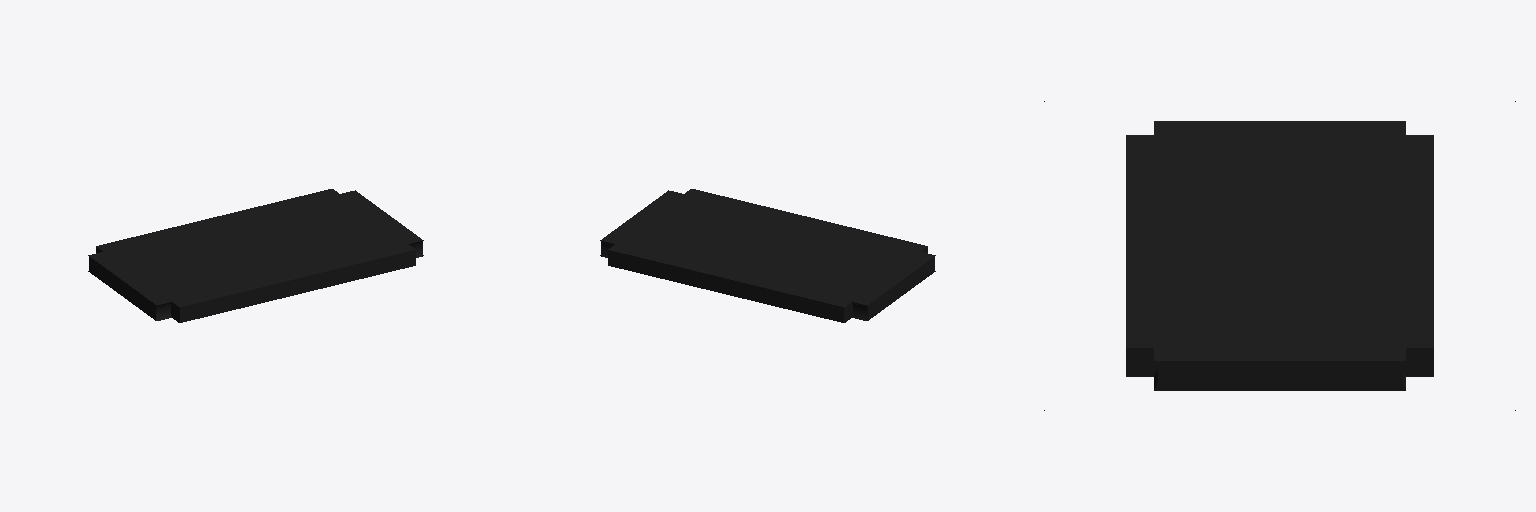
--- What the picture shows (computed from the rendered views, not written in the file) ---
3 views of the same robot in one strip: view 1: azimuth 30°, elevation 25°; view 2: azimuth 150°, elevation 25°; view 3: azimuth 270°, elevation 25° (orthographic).
Model victor with 29 links and 28 joints (12 revolute, 16 fixed), rooted at base_link, posed all joints at 0.
Visible links, largest first — view 1: base_link; view 2: base_link; view 3: base_link.
Link boxes in pixels (x1=…): base_link: x1=88, y1=189, x2=423, y2=322; base_link: x1=600, y1=189, x2=935, y2=322; base_link: x1=1126, y1=121, x2=1433, y2=390.
Bounding box of the posed robot: 0.225 × 0.145 × 0.01 m (x, y, z).
9 mesh visuals loaded from 6 distinct referenced files (3 Collada DAE); not drawn: 6 (reference not matched to a file when rendering).

The robot description file, URDF, robot "victor":
<?xml version="1.0" encoding="utf-8"?>
<!-- =================================================================================== -->
<!-- |    This document was autogenerated by xacro from victor.urdf.xacro              | -->
<!-- |    EDITING THIS FILE BY HAND IS NOT RECOMMENDED                                 | -->
<!-- =================================================================================== -->
<robot name="victor">
  <!-- not how it is done in champ -->
  <material name="black">
    <color rgba="0.15 0.15 0.15 1.0"/>
  </material>
  <link name="base_link">
    <collision>
      <origin rpy="0 0 0" xyz="0 0 0"/>
      <geometry>
        <mesh filename="package://victor_description/meshes/base.dae" scale="1 1 1"/>
      </geometry>
    </collision>
    <visual>
      <origin rpy="0 0 0" xyz="0 0 0"/>
      <geometry>
        <mesh filename="package://victor_description/meshes/base.dae" scale="1 1 1"/>
      </geometry>
      <material name="black"/>
    </visual>
  </link>
  <link name="base_inertia">
    <inertial>
      <origin xyz="0 0 0"/>
      <mass value="2.0"/>
      <inertia ixx="0.00152083333333" ixy="0.0" ixz="0.0" iyy="0.00512083333333" iyz="0.0" izz="0.00660833333333"/>
    </inertial>
  </link>
  <joint name="base_link_to_base_inertia" type="fixed">
    <parent link="base_link"/>
    <child link="base_inertia"/>
    <origin rpy="0 0 0" xyz="0 0 0"/>
  </joint>
  <gazebo reference="base_link">
    <material>Gazebo/FlatBlack</material>
  </gazebo>
  <joint name="hokuyo_joint" type="fixed">
    <origin rpy="0 0 0" xyz="0.0 0.0 0.045"/>
    <parent link="base_link"/>
    <child link="hokuyo_frame"/>
  </joint>
  <link name="hokuyo_frame">
    <inertial>
      <mass value="0.270"/>
      <origin rpy="0 0 0" xyz="0 0 0"/>
      <inertia ixx="2.632e-4" ixy="0" ixz="0" iyy="2.632e-4" iyz="0" izz="1.62e-4"/>
    </inertial>
    <visual>
      <origin rpy="0 0 0" xyz="0 0 0"/>
      <geometry>
        <mesh filename="package://hector_sensors_description/meshes/hokuyo_utm30lx/hokuyo_utm_30lx.dae"/>
      </geometry>
    </visual>
    <collision>
      <origin rpy="0 0 0" xyz="0 0 -0.0115"/>
      <geometry>
        <box size="0.058 0.058 0.087"/>
        <!--<mesh filename="package://hector_sensors_description/meshes/hokuyo_utm30lx/hokuyo_utm_30lx.stl"/>-->
      </geometry>
    </collision>
  </link>
  <gazebo reference="hokuyo_frame">
    <sensor name="hokuyo" type="ray">
      <always_on>true</always_on>
      <update_rate>30</update_rate>
      <pose>0 0 0 0 0 0</pose>
      <visualize>false</visualize>
      <ray>
        <scan>
          <horizontal>
            <samples>1040</samples>
            <resolution>1</resolution>
            <min_angle>2.26892802759</min_angle>
            <max_angle>-2.26892802759</max_angle>
          </horizontal>
        </scan>
        <range>
          <min>0.2</min>
          <max>30.0</max>
          <resolution>0.01</resolution>
        </range>
        <noise>
          <type>gaussian</type>
          <mean>0.0</mean>
          <stddev>0.004</stddev>
        </noise>
      </ray>
      <plugin filename="libgazebo_ros_laser.so" name="gazebo_ros_hokuyo_controller">
        <topicName>scan</topicName>
        <frameName>hokuyo_frame</frameName>
      </plugin>
    </sensor>
  </gazebo>
  <joint name="camera_joint" type="fixed">
    <origin rpy="0 0 0" xyz="0.0875 0.0 -0.015"/>
    <parent link="base_link"/>
    <child link="camera_link"/>
  </joint>
  <link name="camera_link">
    <inertial>
      <mass value="0.200"/>
      <origin rpy="0 0 0" xyz="0 0 0"/>
      <inertia ixx="5.8083e-4" ixy="0" ixz="0" iyy="3.0833e-5" iyz="0" izz="5.9083e-4"/>
    </inertial>
    <visual>
      <origin rpy="0 0 0" xyz="0 0 0"/>
      <geometry>
        <mesh filename="package://hector_sensors_description/meshes/asus_camera/asus_camera_simple.dae"/>
      </geometry>
    </visual>
    <!--        
       <collision>
          <origin xyz="0 0 0" rpy="0 0 0" />
          <geometry>
            <box size="0.035 0.185 0.025"/>
          </geometry>
        </collision>
        -->
    <collision>
      <origin rpy="0 0 0" xyz="0 0 0"/>
      <geometry>
        <mesh filename="package://hector_sensors_description/meshes/asus_camera/asus_camera_simple.dae"/>
      </geometry>
    </collision>
  </link>
  <joint name="camera_depth_joint" type="fixed">
    <origin rpy="0 0 0" xyz="0.0 0.049 0.0"/>
    <parent link="camera_link"/>
    <child link="camera_depth_frame"/>
  </joint>
  <link name="camera_depth_frame"/>
  <joint name="camera_depth_optical_joint" type="fixed">
    <origin rpy="-1.57079632679 0.0 -1.57079632679" xyz="0 0 0"/>
    <parent link="camera_depth_frame"/>
    <child link="camera_depth_optical_frame"/>
  </joint>
  <link name="camera_depth_optical_frame"/>
  <joint name="camera_rgb_joint" type="fixed">
    <origin rpy="0 0 0" xyz="0.0 0.022 0.0"/>
    <parent link="camera_link"/>
    <child link="camera_rgb_frame"/>
  </joint>
  <link name="camera_rgb_frame"/>
  <joint name="camera_rgb_optical_joint" type="fixed">
    <origin rpy="-1.57079632679 0.0 -1.57079632679" xyz="0 0 0"/>
    <parent link="camera_rgb_frame"/>
    <child link="camera_rgb_optical_frame"/>
  </joint>
  <link name="camera_rgb_optical_frame"/>
  <!-- ASUS Xtion PRO camera for simulation -->
  <gazebo reference="camera_depth_frame">
    <sensor name="camera" type="depth">
      <update_rate>20</update_rate>
      <camera>
        <horizontal_fov>1.09606677025</horizontal_fov>
        <image>
          <format>R8G8B8</format>
          <width>640</width>
          <height>480</height>
        </image>
        <clip>
          <near>0.5</near>
          <far>9</far>
        </clip>
      </camera>
      <plugin filename="libgazebo_ros_openni_kinect.so" name="camera_camera_controller">
        <imageTopicName>camera/rgb/image_raw</imageTopicName>
        <cameraInfoTopicName>camera/rgb/camera_info</cameraInfoTopicName>
        <depthImageTopicName>camera/depth/image_raw</depthImageTopicName>
        <depthImageCameraInfoTopicName>camera/depth/camera_info</depthImageCameraInfoTopicName>
        <pointCloudTopicName>camera/depth/points</pointCloudTopicName>
        <frameName>camera_depth_optical_frame</frameName>
      </plugin>
    </sensor>
  </gazebo>
  <gazebo>
    <plugin filename="libhector_gazebo_ros_imu.so" name="imu_controller">
      <updateRate>50.0</updateRate>
      <bodyName>imu_link</bodyName>
      <topicName>imu/data</topicName>
      <accelDrift>0.005 0.005 0.005</accelDrift>
      <accelGaussianNoise>0.005 0.005 0.005</accelGaussianNoise>
      <rateDrift>0.005 0.005 0.005 </rateDrift>
      <rateGaussianNoise>0.005 0.005 0.005 </rateGaussianNoise>
      <headingDrift>0.005</headingDrift>
      <headingGaussianNoise>0.005</headingGaussianNoise>
    </plugin>
  </gazebo>
  <link name="imu_link">
    <inertial>
      <mass value="0.001"/>
      <origin rpy="0 0 0" xyz="0 0 0"/>
      <inertia ixx="1e-09" ixy="0.0" ixz="0.0" iyy="1e-09" iyz="0.0" izz="1e-09"/>
    </inertial>
  </link>
  <joint name="imu_joint" type="fixed">
    <parent link="base_link"/>
    <child link="imu_link"/>
  </joint>
  <!-- <xacro:include filename="$(find velodyne_description)/urdf/VLP-16.urdf.xacro"/>
        <xacro:VLP-16 parent="${base_name}" name="velodyne" topic="velodyne_points" hz="10" samples="1024" gpu="false" lasers="16" max_range="100">
	<origin xyz="0 0 ${base_height / 2}" rpy="0 0 0" />
        </xacro:VLP-16>

        <xacro:include filename="$(find champ_arm_description)/urdf/champ_arm.urdf.xacro" />
        <xacro:champ_arm parent="${base_name}">
	<origin xyz="0.07 0.0 ${base_height / 2}" rpy="0 0 0"/>
        </xacro:champ_arm> -->
  <link name="lf_hip_debug_link"/>
  <link name="lf_hip_link">
    <inertial>
      <mass value="0.25"/>
      <inertia ixx="3.75e-05" ixy="0.0" ixz="0.0" iyy="5.20833333333e-05" iyz="0.0" izz="5.20833333333e-05"/>
    </inertial>
    <collision>
      <origin rpy="0 0 0" xyz="0 0 0"/>
      <geometry>
        <mesh filename="package://victor_description/meshes/hip.dae" scale="0.001 0.001 0.001"/>
      </geometry>
    </collision>
    <visual>
      <origin rpy="0 0 0" xyz="0 0 0"/>
      <geometry>
        <mesh filename="package://victor_description/meshes/hip.dae" scale="0.001 0.001 0.001"/>
      </geometry>
      <material name="black"/>
    </visual>
  </link>
  <gazebo reference="lf_hip_link">
    <material>Gazebo/FlatBlack</material>
  </gazebo>
  <link name="lf_upper_leg_link">
    <inertial>
      <origin xyz="0 0 -0.05"/>
      <mass value="0.125"/>
      <inertia ixx="0.000105208333333" ixy="0.0" ixz="0.0" iyy="0.000113541666667" iyz="0.0" izz="1.04166666667e-05"/>
    </inertial>
    <collision>
      <origin rpy="0 0 0" xyz="0 0 0"/>
      <geometry>
        <mesh filename="package://victor_description/meshes/upper_leg.dae" scale="0.001 0.001 0.001"/>
      </geometry>
    </collision>
    <visual>
      <origin rpy="0 0 0" xyz="0 0 0"/>
      <geometry>
        <mesh filename="package://victor_description/meshes/upper_leg.dae" scale="0.001 0.001 0.001"/>
      </geometry>
      <material name="black"/>
    </visual>
  </link>
  <gazebo reference="lf_upper_leg_link">
    <material>Gazebo/FlatBlack</material>
  </gazebo>
  <link name="lf_lower_leg_link">
    <inertial>
      <origin xyz="0 0 -0.051"/>
      <mass value="0.125"/>
      <inertia ixx="0.000109416666667" ixy="0.0" ixz="0.0" iyy="0.00011775" iyz="0.0" izz="1.04166666667e-05"/>
    </inertial>
    <collision>
      <origin rpy="0 0 0" xyz="0 0 0"/>
      <geometry>
        <mesh filename="package://victor_description/meshes/lower_leg.dae" scale="0.001 0.001 0.001"/>
      </geometry>
    </collision>
    <visual>
      <origin rpy="0 0 0" xyz="0 0 0"/>
      <geometry>
        <mesh filename="package://victor_description/meshes/lower_leg.dae" scale="0.001 0.001 0.001"/>
      </geometry>
      <material name="black"/>
    </visual>
  </link>
  <gazebo reference="lf_lower_leg_link">
    <kp>1000000.0</kp>
    <kd>1.0</kd>
    <mu1>0.8</mu1>
    <mu2>0.8</mu2>
    <maxVel>0.0</maxVel>
    <minDepth>0.001</minDepth>
    <material>Gazebo/FlatBlack</material>
  </gazebo>
  <link name="lf_foot_link"/>
  <joint name="lf_debug_joint" type="fixed">
    <parent link="base_link"/>
    <child link="lf_hip_debug_link"/>
    <origin rpy="0 0 0" xyz="0.1125 0.0475 0"/>
  </joint>
  <joint name="lf_hip_joint" type="revolute">
    <axis xyz="1 0 0"/>
    <limit effort="25" lower="-3.14159265359" upper="3.14159265359" velocity="1.5"/>
    <parent link="base_link"/>
    <child link="lf_hip_link"/>
    <origin rpy="0 0 0" xyz="0.1125 0.0475 0"/>
  </joint>
  <joint name="lf_upper_leg_joint" type="revolute">
    <axis xyz="0 1 0"/>
    <limit effort="25" lower="-3.14159265359" upper="3.14159265359" velocity="1.5"/>
    <parent link="lf_hip_link"/>
    <child link="lf_upper_leg_link"/>
    <origin rpy="0 0 0" xyz="0 0.025 0"/>
  </joint>
  <joint name="lf_lower_leg_joint" type="revolute">
    <axis xyz="0 1 0"/>
    <limit effort="25" lower="-3.14159265359" upper="3.14159265359" velocity="1.5"/>
    <parent link="lf_upper_leg_link"/>
    <child link="lf_lower_leg_link"/>
    <origin rpy="0 0 0" xyz="0 0 -0.1"/>
  </joint>
  <joint name="lf_foot_joint" type="fixed">
    <parent link="lf_lower_leg_link"/>
    <child link="lf_foot_link"/>
    <!-- <origin xyz="0.00325 0 -${lower_leg_to_foot_distance}" rpy="0 0 0" /> -->
    <origin rpy="0 0 0" xyz="0 0 -0.102"/>
  </joint>
  <transmission name="lf_hip_joint_trans">
    <type>transmission_interface/SimpleTransmission</type>
    <joint name="lf_hip_joint">
      <hardwareInterface>hardware_interface/EffortJointInterface</hardwareInterface>
    </joint>
    <actuator name="lf_hip_joint_motor">
      <hardwareInterface>hardware_interface/EffortJointInterface</hardwareInterface>
      <mechanicalReduction>1</mechanicalReduction>
    </actuator>
  </transmission>
  <transmission name="lf_upper_leg_joint_trans">
    <type>transmission_interface/SimpleTransmission</type>
    <joint name="lf_upper_leg_joint">
      <hardwareInterface>hardware_interface/EffortJointInterface</hardwareInterface>
    </joint>
    <actuator name="lf_upper_leg_joint_motor">
      <hardwareInterface>hardware_interface/EffortJointInterface</hardwareInterface>
      <mechanicalReduction>1</mechanicalReduction>
    </actuator>
  </transmission>
  <transmission name="lf_lower_leg_joint_trans">
    <type>transmission_interface/SimpleTransmission</type>
    <joint name="lf_lower_leg_joint">
      <hardwareInterface>hardware_interface/EffortJointInterface</hardwareInterface>
    </joint>
    <actuator name="lf_lower_joint_motor">
      <hardwareInterface>hardware_interface/EffortJointInterface</hardwareInterface>
      <mechanicalReduction>1</mechanicalReduction>
    </actuator>
  </transmission>
  <link name="lh_hip_debug_link"/>
  <link name="lh_hip_link">
    <inertial>
      <mass value="0.25"/>
      <inertia ixx="3.75e-05" ixy="0.0" ixz="0.0" iyy="5.20833333333e-05" iyz="0.0" izz="5.20833333333e-05"/>
    </inertial>
    <collision>
      <origin rpy="0 0 0" xyz="0 0 0"/>
      <geometry>
        <mesh filename="package://victor_description/meshes/hip.dae" scale="0.001 0.001 0.001"/>
      </geometry>
    </collision>
    <visual>
      <origin rpy="0 0 0" xyz="0 0 0"/>
      <geometry>
        <mesh filename="package://victor_description/meshes/hip.dae" scale="0.001 0.001 0.001"/>
      </geometry>
      <material name="black"/>
    </visual>
  </link>
  <gazebo reference="lh_hip_link">
    <material>Gazebo/FlatBlack</material>
  </gazebo>
  <link name="lh_upper_leg_link">
    <inertial>
      <origin xyz="0 0 -0.05"/>
      <mass value="0.125"/>
      <inertia ixx="0.000105208333333" ixy="0.0" ixz="0.0" iyy="0.000113541666667" iyz="0.0" izz="1.04166666667e-05"/>
    </inertial>
    <collision>
      <origin rpy="0 0 0" xyz="0 0 0"/>
      <geometry>
        <mesh filename="package://victor_description/meshes/upper_leg.dae" scale="0.001 0.001 0.001"/>
      </geometry>
    </collision>
    <visual>
      <origin rpy="0 0 0" xyz="0 0 0"/>
      <geometry>
        <mesh filename="package://victor_description/meshes/upper_leg.dae" scale="0.001 0.001 0.001"/>
      </geometry>
      <material name="black"/>
    </visual>
  </link>
  <gazebo reference="lh_upper_leg_link">
    <material>Gazebo/FlatBlack</material>
  </gazebo>
  <link name="lh_lower_leg_link">
    <inertial>
      <origin xyz="0 0 -0.051"/>
      <mass value="0.125"/>
      <inertia ixx="0.000109416666667" ixy="0.0" ixz="0.0" iyy="0.00011775" iyz="0.0" izz="1.04166666667e-05"/>
    </inertial>
    <collision>
      <origin rpy="0 0 0" xyz="0 0 0"/>
      <geometry>
        <mesh filename="package://victor_description/meshes/lower_leg.dae" scale="0.001 0.001 0.001"/>
      </geometry>
    </collision>
    <visual>
      <origin rpy="0 0 0" xyz="0 0 0"/>
      <geometry>
        <mesh filename="package://victor_description/meshes/lower_leg.dae" scale="0.001 0.001 0.001"/>
      </geometry>
      <material name="black"/>
    </visual>
  </link>
  <gazebo reference="lh_lower_leg_link">
    <kp>1000000.0</kp>
    <kd>1.0</kd>
    <mu1>0.8</mu1>
    <mu2>0.8</mu2>
    <maxVel>0.0</maxVel>
    <minDepth>0.001</minDepth>
    <material>Gazebo/FlatBlack</material>
  </gazebo>
  <link name="lh_foot_link"/>
  <joint name="lh_debug_joint" type="fixed">
    <parent link="base_link"/>
    <child link="lh_hip_debug_link"/>
    <origin rpy="0 0 0" xyz="-0.1125 0.0475 0"/>
  </joint>
  <joint name="lh_hip_joint" type="revolute">
    <axis xyz="1 0 0"/>
    <limit effort="25" lower="-3.14159265359" upper="3.14159265359" velocity="1.5"/>
    <parent link="base_link"/>
    <child link="lh_hip_link"/>
    <origin rpy="0 0 0" xyz="-0.1125 0.0475 0"/>
  </joint>
  <joint name="lh_upper_leg_joint" type="revolute">
    <axis xyz="0 1 0"/>
    <limit effort="25" lower="-3.14159265359" upper="3.14159265359" velocity="1.5"/>
    <parent link="lh_hip_link"/>
    <child link="lh_upper_leg_link"/>
    <origin rpy="0 0 0" xyz="0 0.025 0"/>
  </joint>
  <joint name="lh_lower_leg_joint" type="revolute">
    <axis xyz="0 1 0"/>
    <limit effort="25" lower="-3.14159265359" upper="3.14159265359" velocity="1.5"/>
    <parent link="lh_upper_leg_link"/>
    <child link="lh_lower_leg_link"/>
    <origin rpy="0 0 0" xyz="0 0 -0.1"/>
  </joint>
  <joint name="lh_foot_joint" type="fixed">
    <parent link="lh_lower_leg_link"/>
    <child link="lh_foot_link"/>
    <!-- <origin xyz="0.00325 0 -${lower_leg_to_foot_distance}" rpy="0 0 0" /> -->
    <origin rpy="0 0 0" xyz="0 0 -0.102"/>
  </joint>
  <transmission name="lh_hip_joint_trans">
    <type>transmission_interface/SimpleTransmission</type>
    <joint name="lh_hip_joint">
      <hardwareInterface>hardware_interface/EffortJointInterface</hardwareInterface>
    </joint>
    <actuator name="lh_hip_joint_motor">
      <hardwareInterface>hardware_interface/EffortJointInterface</hardwareInterface>
      <mechanicalReduction>1</mechanicalReduction>
    </actuator>
  </transmission>
  <transmission name="lh_upper_leg_joint_trans">
    <type>transmission_interface/SimpleTransmission</type>
    <joint name="lh_upper_leg_joint">
      <hardwareInterface>hardware_interface/EffortJointInterface</hardwareInterface>
    </joint>
    <actuator name="lh_upper_leg_joint_motor">
      <hardwareInterface>hardware_interface/EffortJointInterface</hardwareInterface>
      <mechanicalReduction>1</mechanicalReduction>
    </actuator>
  </transmission>
  <transmission name="lh_lower_leg_joint_trans">
    <type>transmission_interface/SimpleTransmission</type>
    <joint name="lh_lower_leg_joint">
      <hardwareInterface>hardware_interface/EffortJointInterface</hardwareInterface>
    </joint>
    <actuator name="lh_lower_joint_motor">
      <hardwareInterface>hardware_interface/EffortJointInterface</hardwareInterface>
      <mechanicalReduction>1</mechanicalReduction>
    </actuator>
  </transmission>
  <link name="rf_hip_debug_link"/>
  <link name="rf_hip_link">
    <inertial>
      <mass value="0.25"/>
      <inertia ixx="3.75e-05" ixy="0.0" ixz="0.0" iyy="5.20833333333e-05" iyz="0.0" izz="5.20833333333e-05"/>
    </inertial>
    <collision>
      <origin rpy="0 0 0" xyz="0 0 0"/>
      <geometry>
        <mesh filename="package://victor_description/meshes/hip.dae" scale="0.001 0.001 0.001"/>
      </geometry>
    </collision>
    <visual>
      <origin rpy="0 0 0" xyz="0 0 0"/>
      <geometry>
        <mesh filename="package://victor_description/meshes/hip.dae" scale="0.001 0.001 0.001"/>
      </geometry>
      <material name="black"/>
    </visual>
  </link>
  <gazebo reference="rf_hip_link">
    <material>Gazebo/FlatBlack</material>
  </gazebo>
  <link name="rf_upper_leg_link">
    <inertial>
      <origin xyz="0 0 -0.05"/>
      <mass value="0.125"/>
      <inertia ixx="0.000105208333333" ixy="0.0" ixz="0.0" iyy="0.000113541666667" iyz="0.0" izz="1.04166666667e-05"/>
    </inertial>
    <collision>
      <origin rpy="0 0 0" xyz="0 0 0"/>
      <geometry>
        <mesh filename="package://victor_description/meshes/upper_leg.dae" scale="0.001 0.001 0.001"/>
      </geometry>
    </collision>
    <visual>
      <origin rpy="0 0 0" xyz="0 0 0"/>
      <geometry>
        <mesh filename="package://victor_description/meshes/upper_leg.dae" scale="0.001 0.001 0.001"/>
      </geometry>
      <material name="black"/>
    </visual>
  </link>
  <gazebo reference="rf_upper_leg_link">
    <material>Gazebo/FlatBlack</material>
  </gazebo>
  <link name="rf_lower_leg_link">
    <inertial>
      <origin xyz="0 0 -0.051"/>
      <mass value="0.125"/>
      <inertia ixx="0.000109416666667" ixy="0.0" ixz="0.0" iyy="0.00011775" iyz="0.0" izz="1.04166666667e-05"/>
    </inertial>
    <collision>
      <origin rpy="0 0 0" xyz="0 0 0"/>
      <geometry>
        <mesh filename="package://victor_description/meshes/lower_leg.dae" scale="0.001 0.001 0.001"/>
      </geometry>
    </collision>
    <visual>
      <origin rpy="0 0 0" xyz="0 0 0"/>
      <geometry>
        <mesh filename="package://victor_description/meshes/lower_leg.dae" scale="0.001 0.001 0.001"/>
      </geometry>
      <material name="black"/>
    </visual>
  </link>
  <gazebo reference="rf_lower_leg_link">
    <kp>1000000.0</kp>
    <kd>1.0</kd>
    <mu1>0.8</mu1>
    <mu2>0.8</mu2>
    <maxVel>0.0</maxVel>
    <minDepth>0.001</minDepth>
    <material>Gazebo/FlatBlack</material>
  </gazebo>
  <link name="rf_foot_link"/>
  <joint name="rf_debug_joint" type="fixed">
    <parent link="base_link"/>
    <child link="rf_hip_debug_link"/>
    <origin rpy="0 0 0" xyz="0.1125 -0.0475 0"/>
  </joint>
  <joint name="rf_hip_joint" type="revolute">
    <axis xyz="1 0 0"/>
    <limit effort="25" lower="-3.14159265359" upper="3.14159265359" velocity="1.5"/>
    <parent link="base_link"/>
    <child link="rf_hip_link"/>
    <origin rpy="0 0 0" xyz="0.1125 -0.0475 0"/>
  </joint>
  <joint name="rf_upper_leg_joint" type="revolute">
    <axis xyz="0 1 0"/>
    <limit effort="25" lower="-3.14159265359" upper="3.14159265359" velocity="1.5"/>
    <parent link="rf_hip_link"/>
    <child link="rf_upper_leg_link"/>
    <origin rpy="0 0 0" xyz="0 -0.025 0"/>
  </joint>
  <joint name="rf_lower_leg_joint" type="revolute">
    <axis xyz="0 1 0"/>
    <limit effort="25" lower="-3.14159265359" upper="3.14159265359" velocity="1.5"/>
    <parent link="rf_upper_leg_link"/>
    <child link="rf_lower_leg_link"/>
    <origin rpy="0 0 0" xyz="0 0 -0.1"/>
  </joint>
  <joint name="rf_foot_joint" type="fixed">
    <parent link="rf_lower_leg_link"/>
    <child link="rf_foot_link"/>
    <!-- <origin xyz="0.00325 0 -${lower_leg_to_foot_distance}" rpy="0 0 0" /> -->
    <origin rpy="0 0 0" xyz="0 0 -0.102"/>
  </joint>
  <transmission name="rf_hip_joint_trans">
    <type>transmission_interface/SimpleTransmission</type>
    <joint name="rf_hip_joint">
      <hardwareInterface>hardware_interface/EffortJointInterface</hardwareInterface>
    </joint>
    <actuator name="rf_hip_joint_motor">
      <hardwareInterface>hardware_interface/EffortJointInterface</hardwareInterface>
      <mechanicalReduction>1</mechanicalReduction>
    </actuator>
  </transmission>
  <transmission name="rf_upper_leg_joint_trans">
    <type>transmission_interface/SimpleTransmission</type>
    <joint name="rf_upper_leg_joint">
      <hardwareInterface>hardware_interface/EffortJointInterface</hardwareInterface>
    </joint>
    <actuator name="rf_upper_leg_joint_motor">
      <hardwareInterface>hardware_interface/EffortJointInterface</hardwareInterface>
      <mechanicalReduction>1</mechanicalReduction>
    </actuator>
  </transmission>
  <transmission name="rf_lower_leg_joint_trans">
    <type>transmission_interface/SimpleTransmission</type>
    <joint name="rf_lower_leg_joint">
      <hardwareInterface>hardware_interface/EffortJointInterface</hardwareInterface>
    </joint>
    <actuator name="rf_lower_joint_motor">
      <hardwareInterface>hardware_interface/EffortJointInterface</hardwareInterface>
      <mechanicalReduction>1</mechanicalReduction>
    </actuator>
  </transmission>
  <link name="rh_hip_debug_link"/>
  <link name="rh_hip_link">
    <inertial>
      <mass value="0.25"/>
      <inertia ixx="3.75e-05" ixy="0.0" ixz="0.0" iyy="5.20833333333e-05" iyz="0.0" izz="5.20833333333e-05"/>
    </inertial>
    <collision>
      <origin rpy="0 0 0" xyz="0 0 0"/>
      <geometry>
        <mesh filename="package://victor_description/meshes/hip.dae" scale="0.001 0.001 0.001"/>
      </geometry>
    </collision>
    <visual>
      <origin rpy="0 0 0" xyz="0 0 0"/>
      <geometry>
        <mesh filename="package://victor_description/meshes/hip.dae" scale="0.001 0.001 0.001"/>
      </geometry>
      <material name="black"/>
    </visual>
  </link>
  <gazebo reference="rh_hip_link">
    <material>Gazebo/FlatBlack</material>
  </gazebo>
  <link name="rh_upper_leg_link">
    <inertial>
      <origin xyz="0 0 -0.05"/>
      <mass value="0.125"/>
      <inertia ixx="0.000105208333333" ixy="0.0" ixz="0.0" iyy="0.000113541666667" iyz="0.0" izz="1.04166666667e-05"/>
    </inertial>
    <collision>
      <origin rpy="0 0 0" xyz="0 0 0"/>
      <geometry>
        <mesh filename="package://victor_description/meshes/upper_leg.dae" scale="0.001 0.001 0.001"/>
      </geometry>
    </collision>
    <visual>
      <origin rpy="0 0 0" xyz="0 0 0"/>
      <geometry>
        <mesh filename="package://victor_description/meshes/upper_leg.dae" scale="0.001 0.001 0.001"/>
      </geometry>
      <material name="black"/>
    </visual>
  </link>
  <gazebo reference="rh_upper_leg_link">
    <material>Gazebo/FlatBlack</material>
  </gazebo>
  <link name="rh_lower_leg_link">
    <inertial>
      <origin xyz="0 0 -0.051"/>
      <mass value="0.125"/>
      <inertia ixx="0.000109416666667" ixy="0.0" ixz="0.0" iyy="0.00011775" iyz="0.0" izz="1.04166666667e-05"/>
    </inertial>
    <collision>
      <origin rpy="0 0 0" xyz="0 0 0"/>
      <geometry>
        <mesh filename="package://victor_description/meshes/lower_leg.dae" scale="0.001 0.001 0.001"/>
      </geometry>
    </collision>
    <visual>
      <origin rpy="0 0 0" xyz="0 0 0"/>
      <geometry>
        <mesh filename="package://victor_description/meshes/lower_leg.dae" scale="0.001 0.001 0.001"/>
      </geometry>
      <material name="black"/>
    </visual>
  </link>
  <gazebo reference="rh_lower_leg_link">
    <kp>1000000.0</kp>
    <kd>1.0</kd>
    <mu1>0.8</mu1>
    <mu2>0.8</mu2>
    <maxVel>0.0</maxVel>
    <minDepth>0.001</minDepth>
    <material>Gazebo/FlatBlack</material>
  </gazebo>
  <link name="rh_foot_link"/>
  <joint name="rh_debug_joint" type="fixed">
    <parent link="base_link"/>
    <child link="rh_hip_debug_link"/>
    <origin rpy="0 0 0" xyz="-0.1125 -0.0475 0"/>
  </joint>
  <joint name="rh_hip_joint" type="revolute">
    <axis xyz="1 0 0"/>
    <limit effort="25" lower="-3.14159265359" upper="3.14159265359" velocity="1.5"/>
    <parent link="base_link"/>
    <child link="rh_hip_link"/>
    <origin rpy="0 0 0" xyz="-0.1125 -0.0475 0"/>
  </joint>
  <joint name="rh_upper_leg_joint" type="revolute">
    <axis xyz="0 1 0"/>
    <limit effort="25" lower="-3.14159265359" upper="3.14159265359" velocity="1.5"/>
    <parent link="rh_hip_link"/>
    <child link="rh_upper_leg_link"/>
    <origin rpy="0 0 0" xyz="0 -0.025 0"/>
  </joint>
  <joint name="rh_lower_leg_joint" type="revolute">
    <axis xyz="0 1 0"/>
    <limit effort="25" lower="-3.14159265359" upper="3.14159265359" velocity="1.5"/>
    <parent link="rh_upper_leg_link"/>
    <child link="rh_lower_leg_link"/>
    <origin rpy="0 0 0" xyz="0 0 -0.1"/>
  </joint>
  <joint name="rh_foot_joint" type="fixed">
    <parent link="rh_lower_leg_link"/>
    <child link="rh_foot_link"/>
    <!-- <origin xyz="0.00325 0 -${lower_leg_to_foot_distance}" rpy="0 0 0" /> -->
    <origin rpy="0 0 0" xyz="0 0 -0.102"/>
  </joint>
  <transmission name="rh_hip_joint_trans">
    <type>transmission_interface/SimpleTransmission</type>
    <joint name="rh_hip_joint">
      <hardwareInterface>hardware_interface/EffortJointInterface</hardwareInterface>
    </joint>
    <actuator name="rh_hip_joint_motor">
      <hardwareInterface>hardware_interface/EffortJointInterface</hardwareInterface>
      <mechanicalReduction>1</mechanicalReduction>
    </actuator>
  </transmission>
  <transmission name="rh_upper_leg_joint_trans">
    <type>transmission_interface/SimpleTransmission</type>
    <joint name="rh_upper_leg_joint">
      <hardwareInterface>hardware_interface/EffortJointInterface</hardwareInterface>
    </joint>
    <actuator name="rh_upper_leg_joint_motor">
      <hardwareInterface>hardware_interface/EffortJointInterface</hardwareInterface>
      <mechanicalReduction>1</mechanicalReduction>
    </actuator>
  </transmission>
  <transmission name="rh_lower_leg_joint_trans">
    <type>transmission_interface/SimpleTransmission</type>
    <joint name="rh_lower_leg_joint">
      <hardwareInterface>hardware_interface/EffortJointInterface</hardwareInterface>
    </joint>
    <actuator name="rh_lower_joint_motor">
      <hardwareInterface>hardware_interface/EffortJointInterface</hardwareInterface>
      <mechanicalReduction>1</mechanicalReduction>
    </actuator>
  </transmission>
  <gazebo>
    <plugin filename="libgazebo_ros_p3d.so" name="p3d_base_controller">
      <alwaysOn>true</alwaysOn>
      <updateRate>10.0</updateRate>
      <bodyName>base_link</bodyName>
      <topicName>odom/ground_truth</topicName>
      <gaussianNoise>0.01</gaussianNoise>
      <frameName>world</frameName>
      <xyzOffsets>0 0 0</xyzOffsets>
      <rpyOffsets>0 0 0</rpyOffsets>
    </plugin>
  </gazebo>
  <gazebo>
    <plugin filename="libgazebo_ros_control.so" name="gazebo_ros_control">
      <legacyModeNS>true</legacyModeNS>
    </plugin>
  </gazebo>
</robot>
